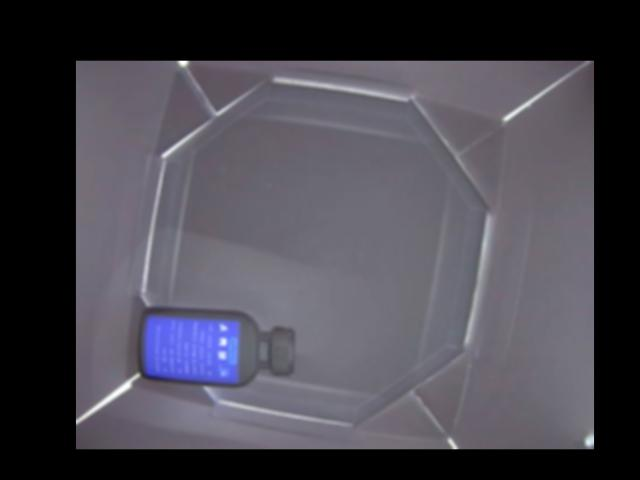Bottle: (137, 307, 296, 386)
